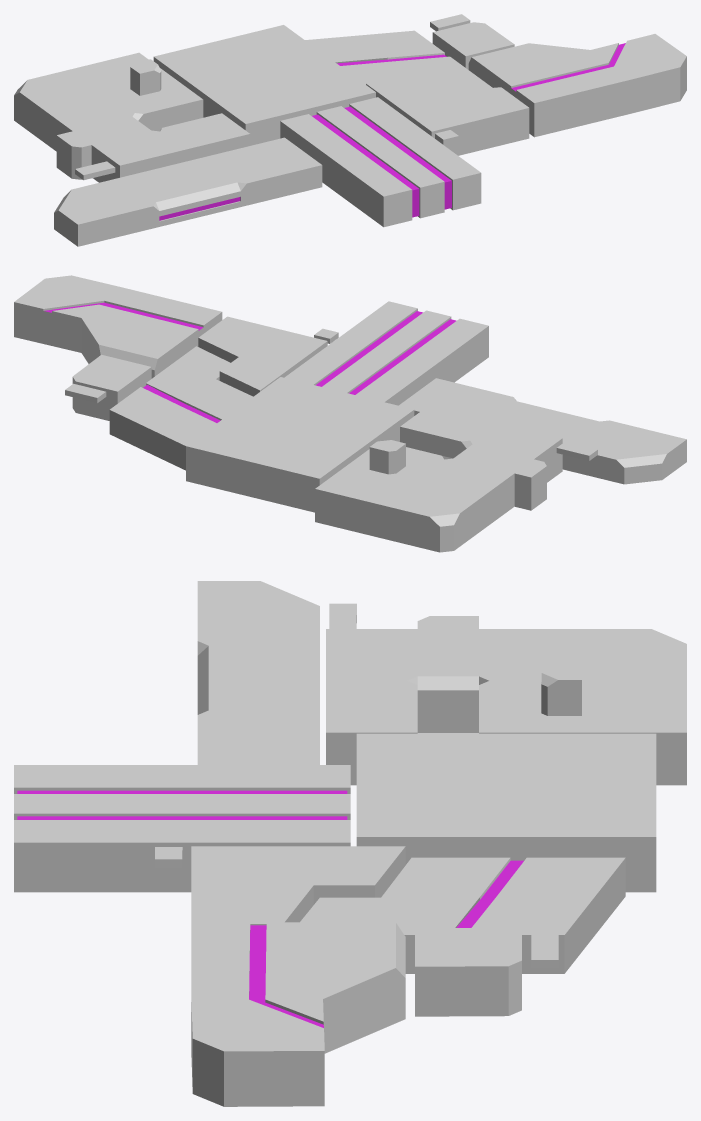
File: Title.fbx
3 views of the same model, one above another, from view 1: azimuth 30°, elevation 25°; view 2: azimuth 150°, elevation 25°; view 3: azimuth 270°, elevation 25° (orthographic). The views are drawn at different scales.
Visible parts, largest first — view 1: Cube; view 2: Cube; view 3: Cube.
Part boxes in pixels (x1=…): Cube: x1=14, y1=14, x2=686, y2=246; Cube: x1=14, y1=275, x2=686, y2=552; Cube: x1=14, y1=581, x2=686, y2=1106.
Bounding box in the file's own units: 3789 × 320 × 2200.
